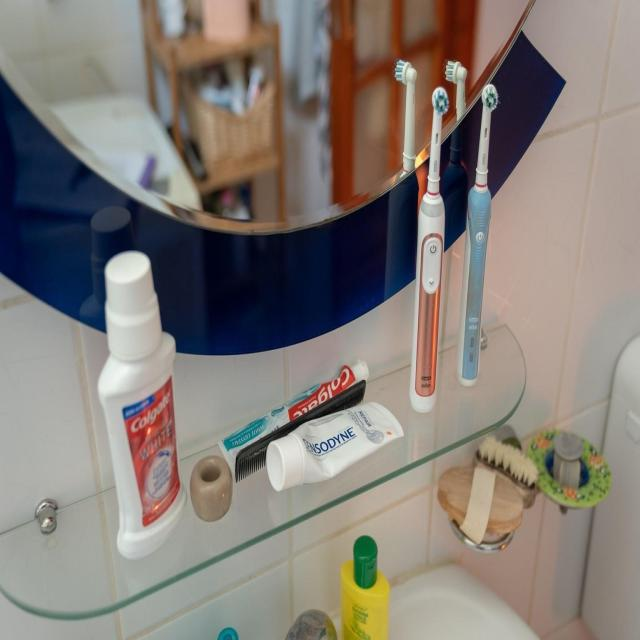Toothpaste: (97, 249, 190, 562), (218, 356, 404, 491)
